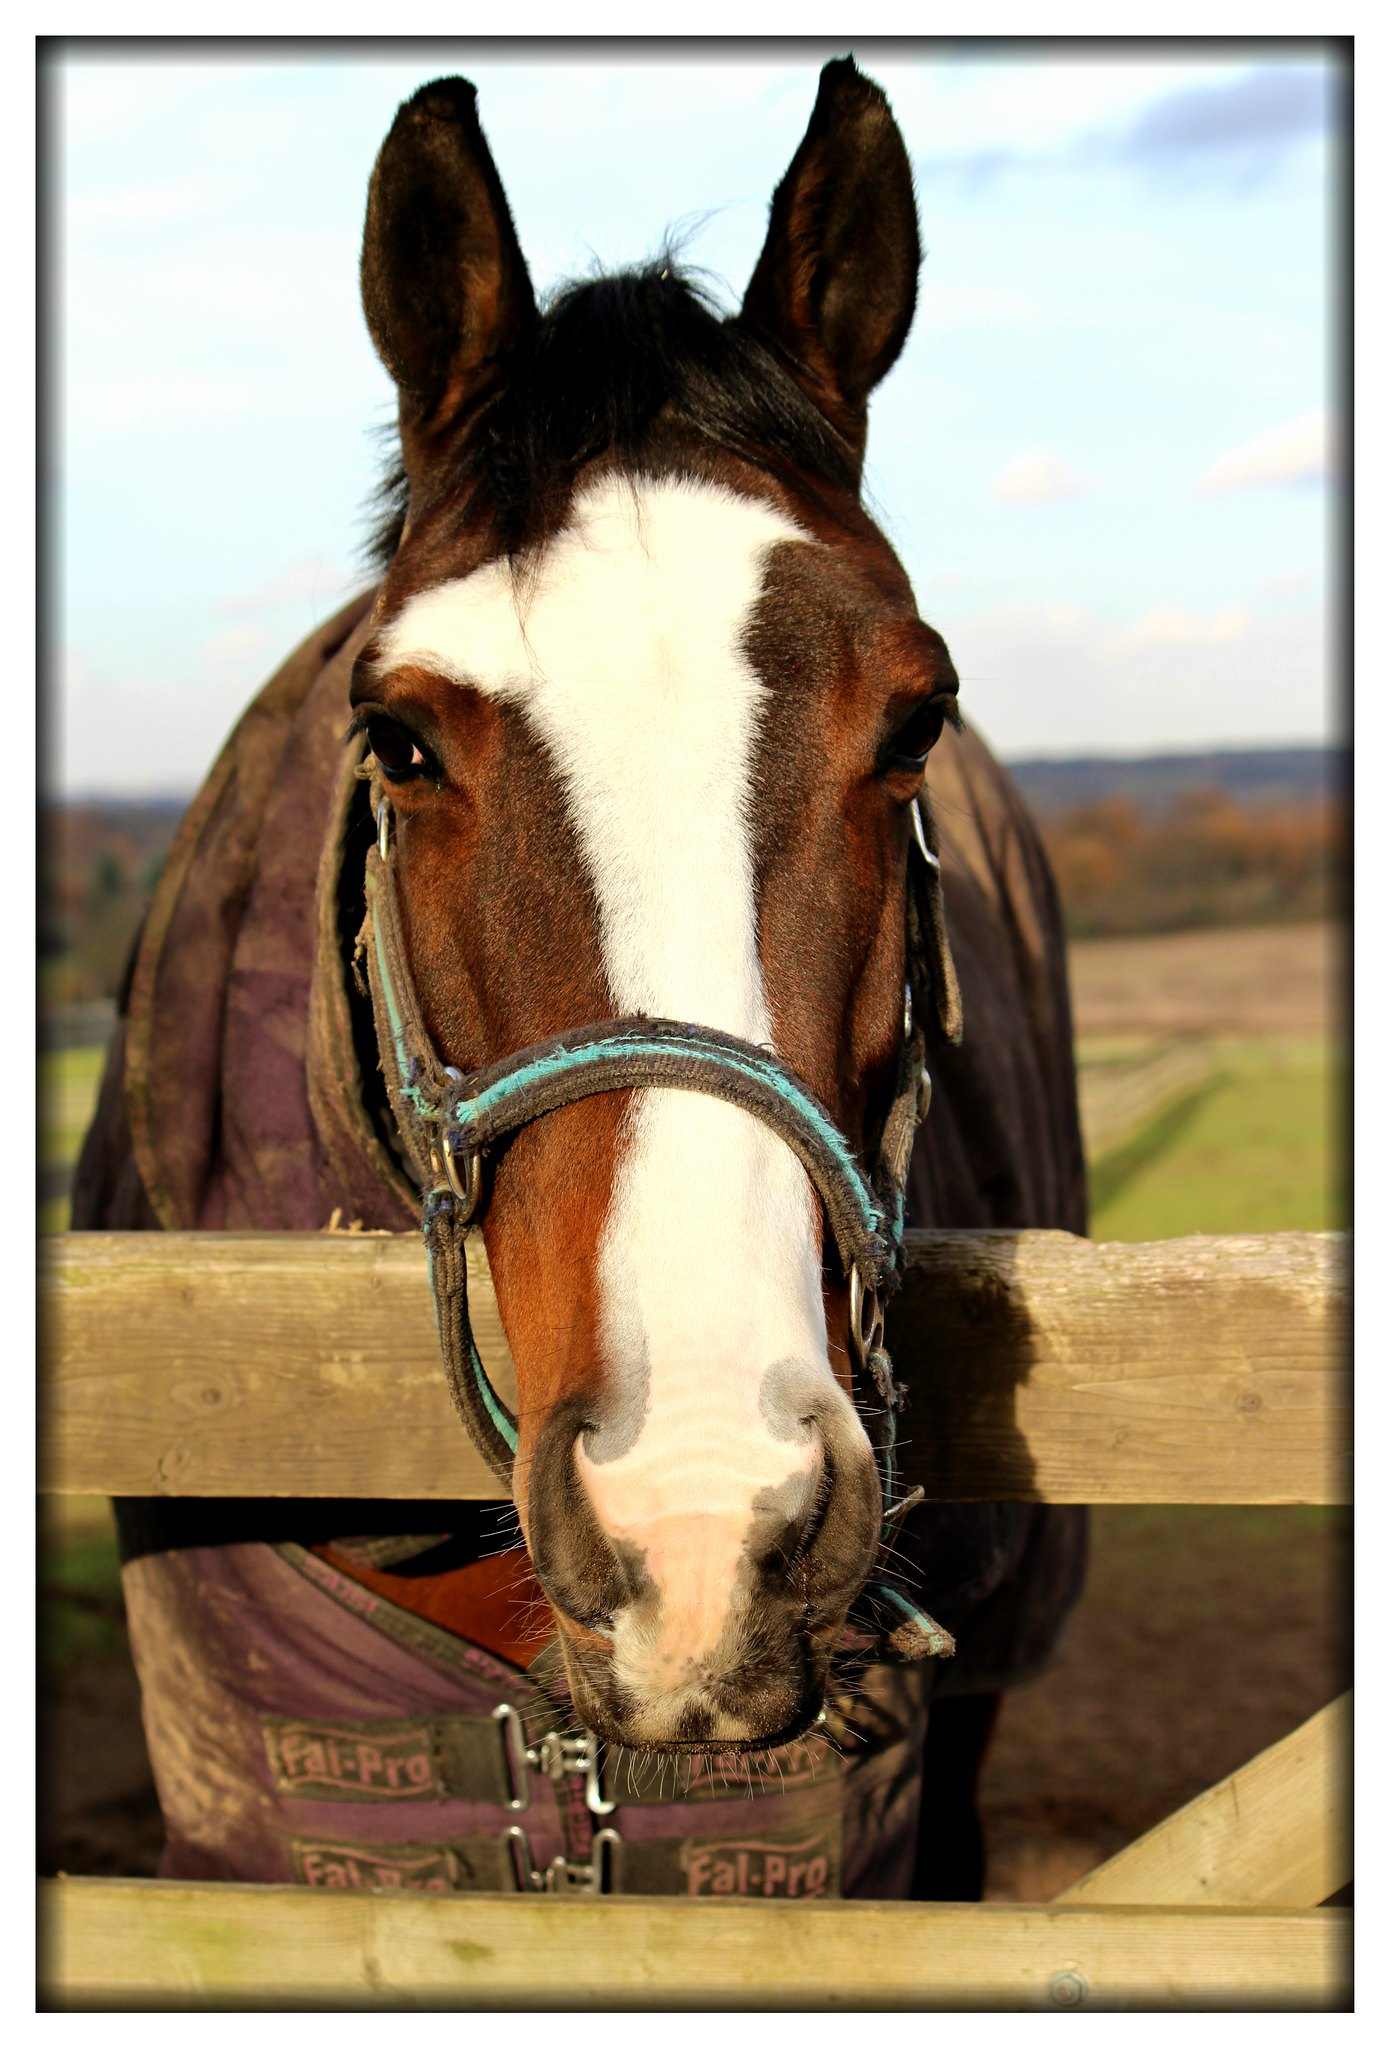horse: (84, 74, 1141, 1926)
